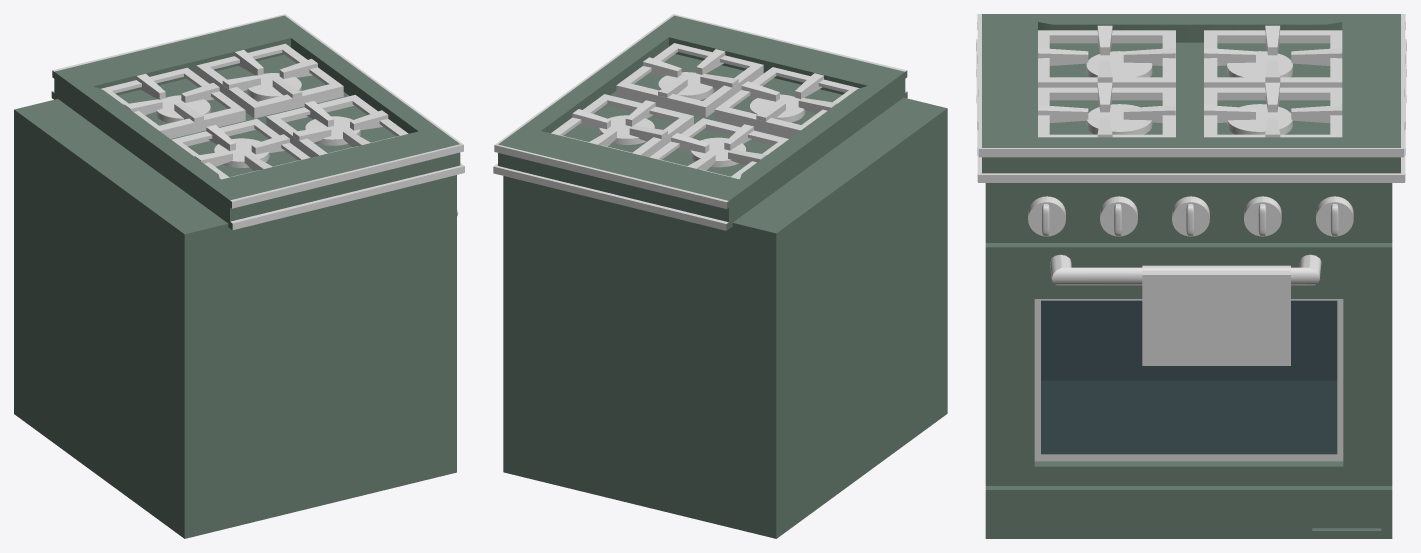
The model's file is Cuisine_gaziniere.fbx.
3 renders of one model, left to right at view 1: azimuth 30°, elevation 25°; view 2: azimuth 150°, elevation 25°; view 3: azimuth 270°, elevation 25°, orthographic. The views are drawn at different scales.
Parts seen in each view (by area): view 1: Gaziniere; view 2: Gaziniere; view 3: Gaziniere, Gaziniere_linge.
Boxes of the visible parts, <box> form: Gaziniere: <box>14,14,464,538</box>; Gaziniere: <box>493,14,947,538</box>; Gaziniere: <box>976,14,1406,538</box>; Gaziniere_linge: <box>1142,265,1290,365</box>.
Size of the model in its own units: 128 by 131 by 130.
